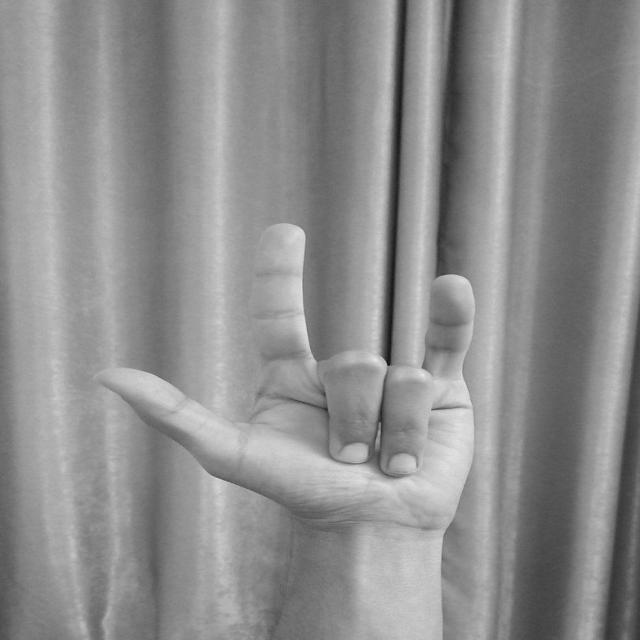i love you: (83, 215, 488, 560)
